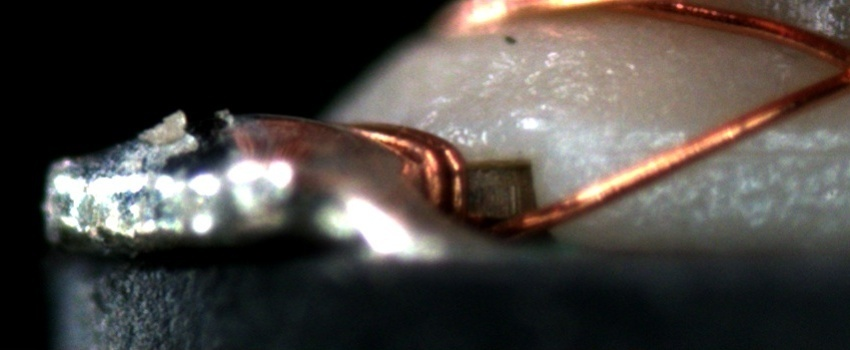DL: (645, 114, 849, 184)
TE: (348, 111, 473, 223)
